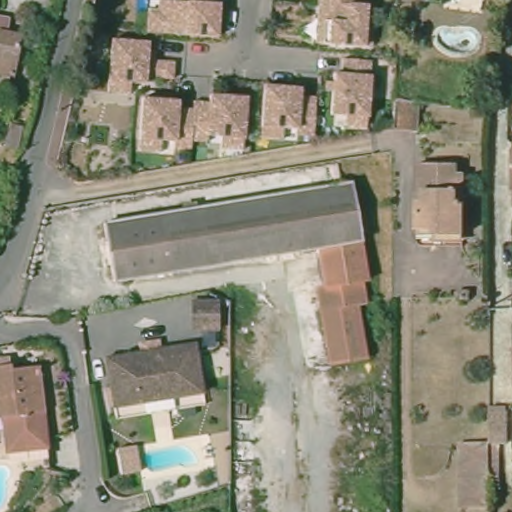pool: (136, 439, 205, 474), (1, 459, 22, 512)
